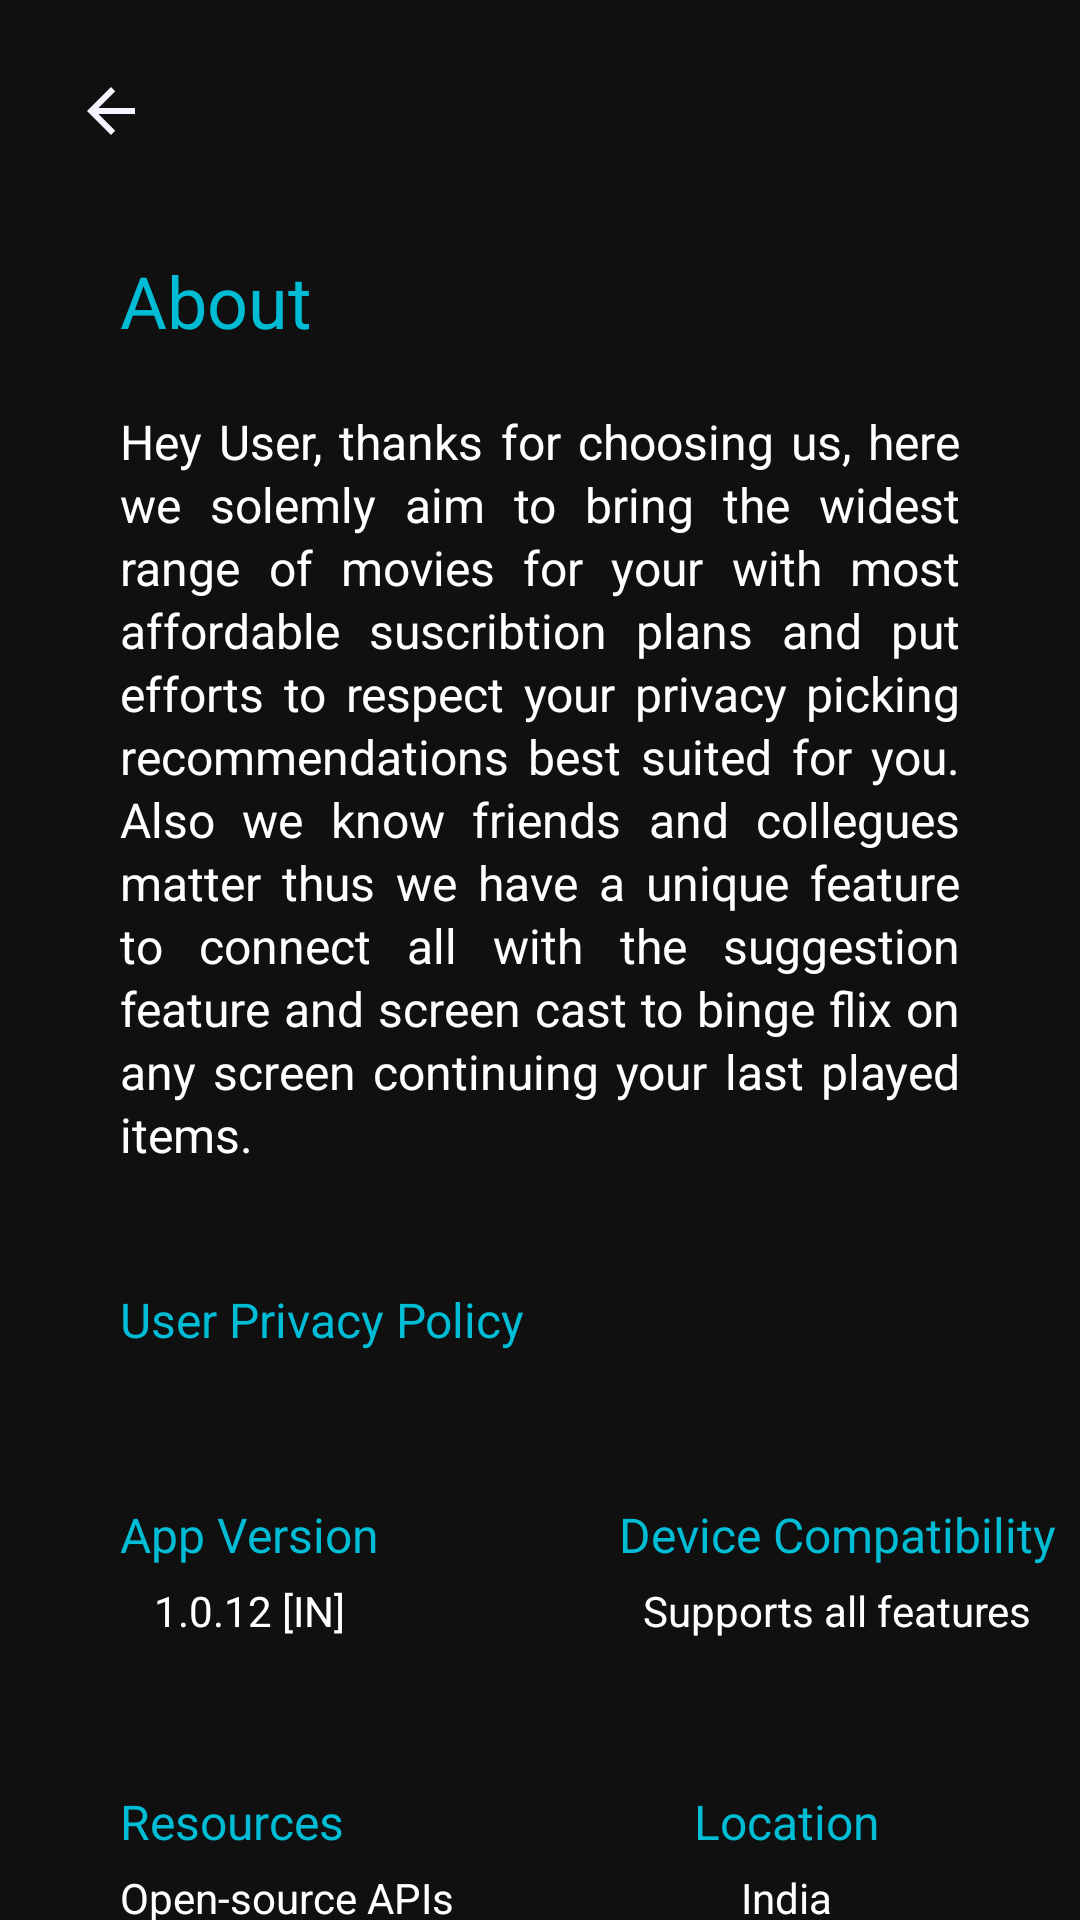

Screen size 1080×1920. Icon name, then its center in pixels as point (x, y):
back: point (111, 111)
